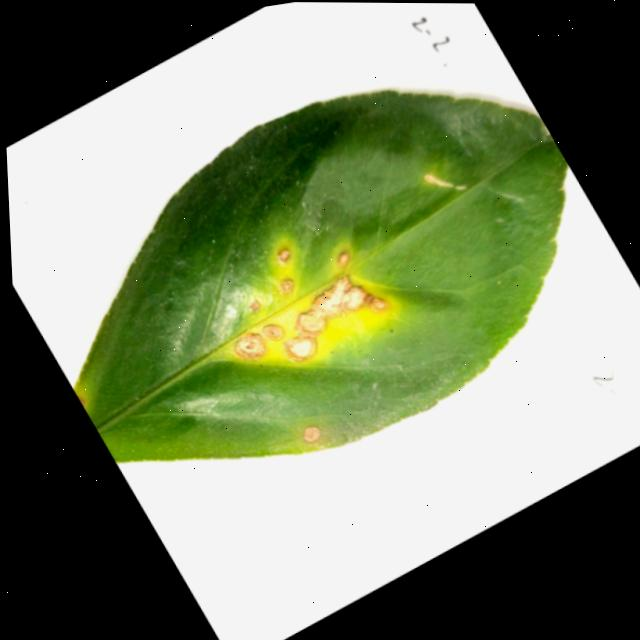antracnose: (75, 91, 567, 462), (295, 277, 385, 338), (284, 336, 317, 361), (235, 334, 266, 359), (303, 426, 321, 443), (263, 325, 284, 339), (337, 251, 350, 267), (280, 280, 293, 293), (278, 249, 290, 262), (251, 300, 260, 311)
